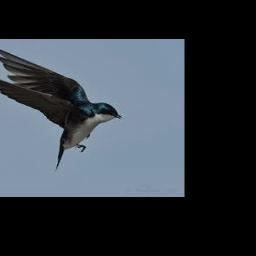Swallow: (0, 48, 121, 171)
